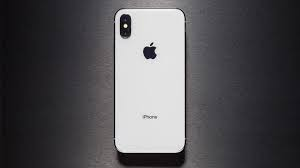iphone: (112, 7, 188, 158)
iphone10: (111, 6, 187, 157)
